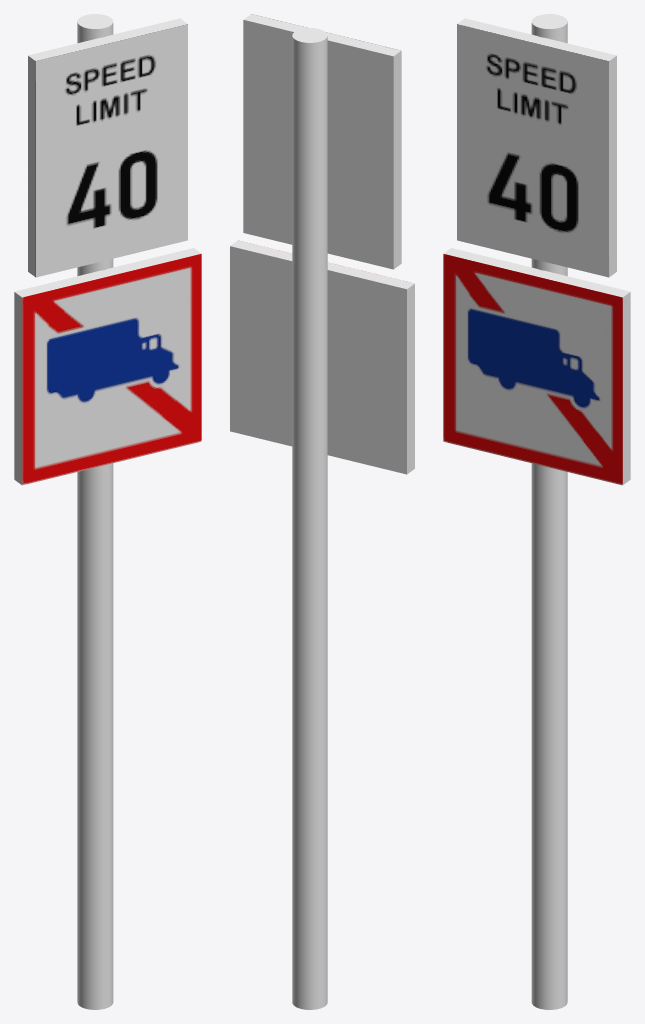
File: sign01.obj
3 views of the same model, side by side, from view 1: azimuth 30°, elevation 25°; view 2: azimuth 150°, elevation 25°; view 3: azimuth 330°, elevation 25° (orthographic).
Parts seen in each view (by area): view 1: pCube1, pCube2, pCylinder1; view 2: pCylinder1, pCube1, pCube2; view 3: pCube1, pCube2, pCylinder1.
Part boxes in pixels (<box>): pCube1: <box>14,248,201,485</box>; pCube2: <box>28,18,187,277</box>; pCylinder1: <box>77,14,113,1009</box>; pCylinder1: <box>292,28,327,1009</box>; pCube1: <box>230,240,414,474</box>; pCube2: <box>243,14,401,269</box>; pCube1: <box>443,248,630,485</box>; pCube2: <box>457,18,616,277</box>; pCylinder1: <box>531,14,567,1009</box>.
Size of the model in its own units: 1.15 by 6 by 0.2848.
Materials: 2 (1 with a texture image).
